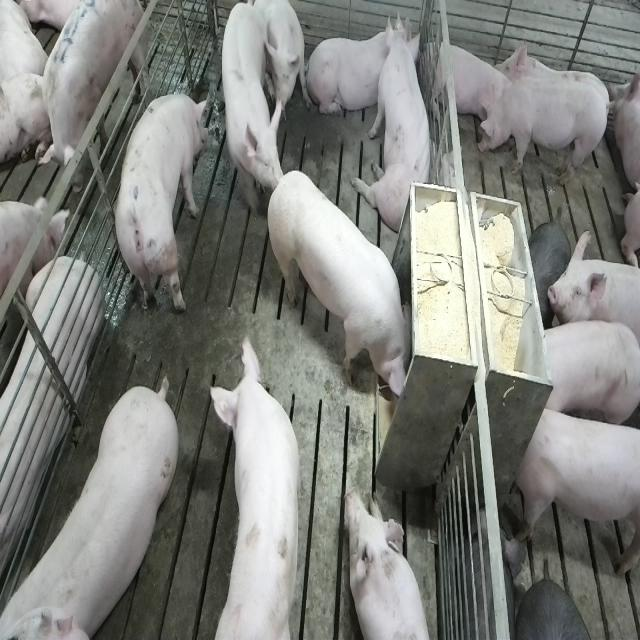Feeding: (270, 167, 420, 403)
Lateral_lying: (0, 254, 100, 591)
Sitting: (356, 12, 436, 233), (254, 2, 304, 128)
Standing: (6, 373, 183, 635), (208, 324, 306, 636), (33, 0, 146, 197), (514, 402, 638, 577), (115, 89, 207, 322), (477, 80, 613, 188), (218, 0, 283, 222), (549, 232, 640, 374), (538, 320, 638, 426)
Sternal_lying: (346, 487, 432, 640), (308, 17, 414, 124), (428, 34, 509, 132)
